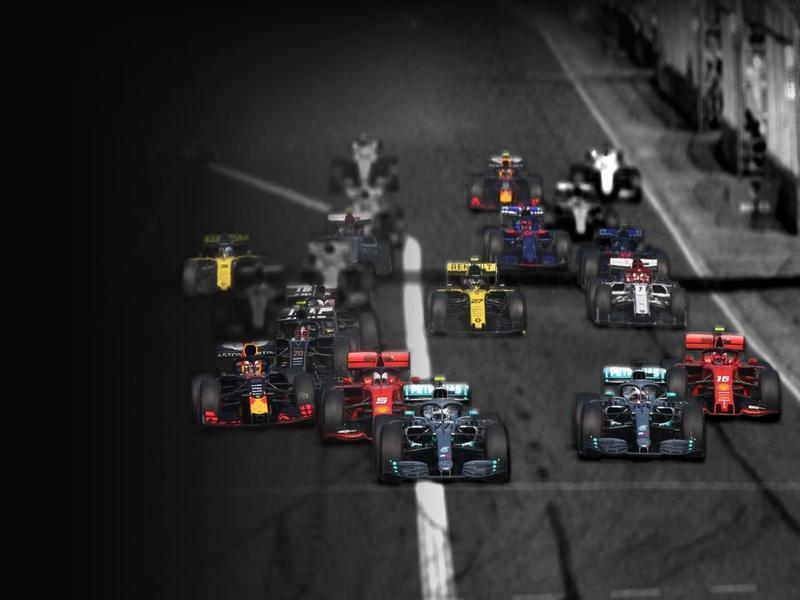f1: (371, 378, 537, 497), (567, 349, 701, 469), (672, 321, 800, 421), (184, 341, 336, 420), (323, 346, 435, 451), (586, 241, 679, 346), (480, 203, 597, 286), (422, 258, 530, 343)
